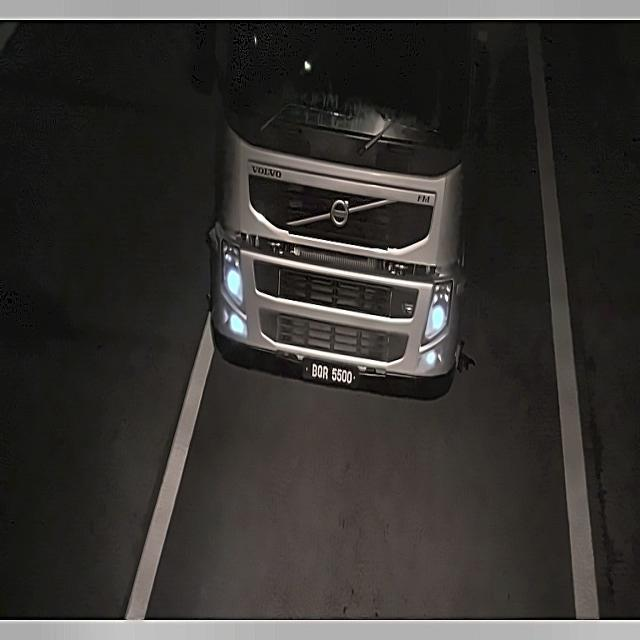car: (301, 356, 361, 394)
